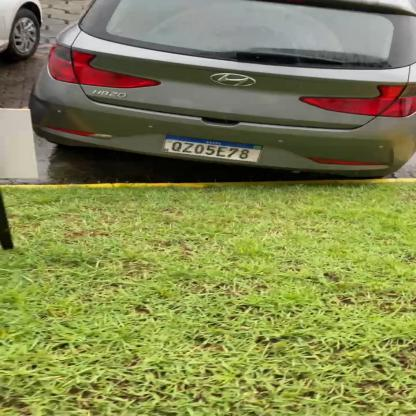Plate: (160, 126, 270, 166)
